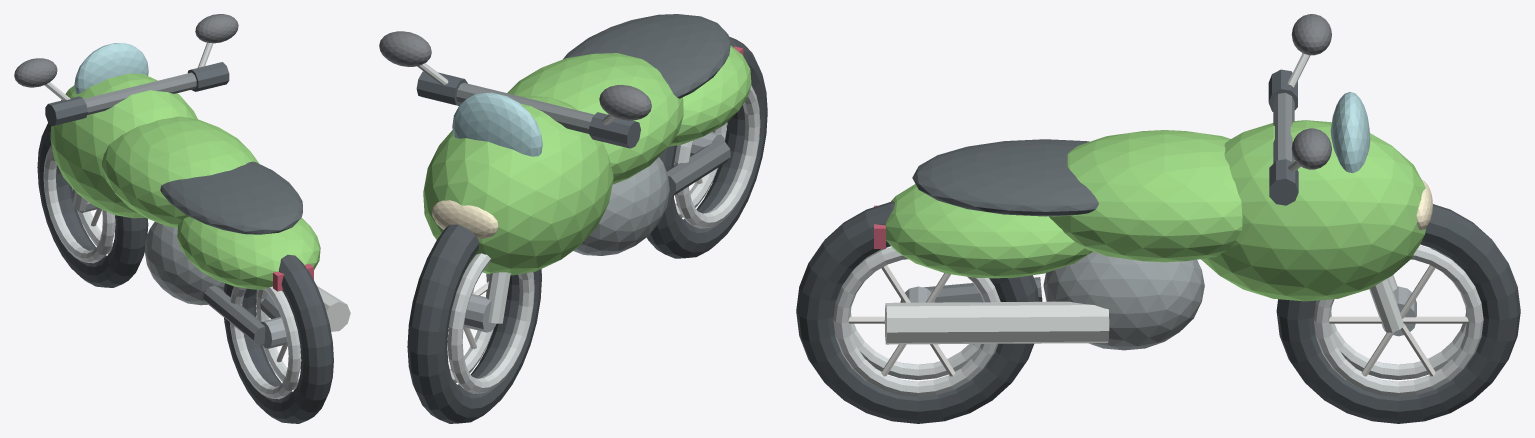
File: motorbike.glb
3 renders of one model, left to right at view 1: azimuth 30°, elevation 25°; view 2: azimuth 150°, elevation 25°; view 3: azimuth 270°, elevation 25°, orthographic. The views are drawn at different scales.
Parts seen in each view (by area): view 1: Moto_Tank_026, Moto_Fairing_025, Wheel_Tire_011, Moto_Seat_028, Moto_RearCowl_027, Wheel_Tire_001, Moto_Engine_029, Wheel_Rim_012, Wheel_Rim_002, Moto_Windscreen_030, Moto_Handlebar_032, Moto_SwingArm_022 (+9 smaller); view 2: Moto_Fairing_025, Wheel_Tire_001, Moto_Tank_026, Moto_Seat_028, Wheel_Tire_011, Moto_Engine_029, Wheel_Rim_002, Moto_Windscreen_030, Moto_RearCowl_027, Wheel_Rim_012, Moto_SwingArm_022, Moto_Handlebar_032 (+9 smaller); view 3: Moto_Fairing_025, Moto_Tank_026, Wheel_Tire_001, Wheel_Tire_011, Moto_RearCowl_027, Moto_Seat_028, Moto_Engine_029, Moto_Exhaust_039, Wheel_Rim_003, Wheel_Rim_013, Moto_Windscreen_030, Wheel_Rim_002 (+8 smaller).
Boxes of the visible parts, x1,y1,x2,y2 form: Moto_Tank_026: [102, 116, 259, 228]; Moto_Fairing_025: [50, 73, 197, 218]; Wheel_Tire_011: [224, 254, 333, 423]; Moto_Seat_028: [160, 161, 302, 234]; Moto_RearCowl_027: [177, 216, 320, 289]; Wheel_Tire_001: [37, 123, 148, 287]; Moto_Engine_029: [144, 221, 224, 305]; Wheel_Rim_012: [230, 286, 300, 399]; Wheel_Rim_002: [43, 145, 115, 263]; Moto_Windscreen_030: [74, 43, 148, 93]; Moto_Handlebar_032: [83, 72, 196, 114]; Moto_SwingArm_022: [203, 285, 265, 344]; Moto_Fairing_025: [423, 96, 613, 275]; Wheel_Tire_001: [407, 224, 541, 423]; Moto_Tank_026: [507, 53, 683, 184]; Moto_Seat_028: [563, 14, 730, 98]; Wheel_Tire_011: [647, 36, 767, 258]; Moto_Engine_029: [573, 157, 669, 255]; Wheel_Rim_002: [447, 253, 534, 393]; Moto_Windscreen_030: [452, 92, 542, 156]; Moto_RearCowl_027: [669, 45, 751, 146]; Wheel_Rim_012: [674, 85, 760, 228]; Moto_SwingArm_022: [667, 140, 730, 197]; Moto_Handlebar_032: [456, 82, 594, 133]; Moto_Fairing_025: [1201, 120, 1425, 301]; Moto_Tank_026: [1049, 130, 1242, 262]; Wheel_Tire_001: [1276, 204, 1520, 423]; Wheel_Tire_011: [796, 201, 1038, 423]; Moto_RearCowl_027: [885, 184, 1092, 278]; Moto_Seat_028: [912, 139, 1098, 216]; Moto_Engine_029: [1043, 251, 1204, 350]; Moto_Exhaust_039: [884, 301, 1109, 344]; Wheel_Rim_003: [1313, 245, 1483, 397]; Wheel_Rim_013: [833, 247, 1000, 397]; Moto_Windscreen_030: [1330, 92, 1370, 172]; Wheel_Rim_002: [1330, 244, 1466, 379].
Size of the model in its own units: 1.64 by 1.9 by 3.59.
